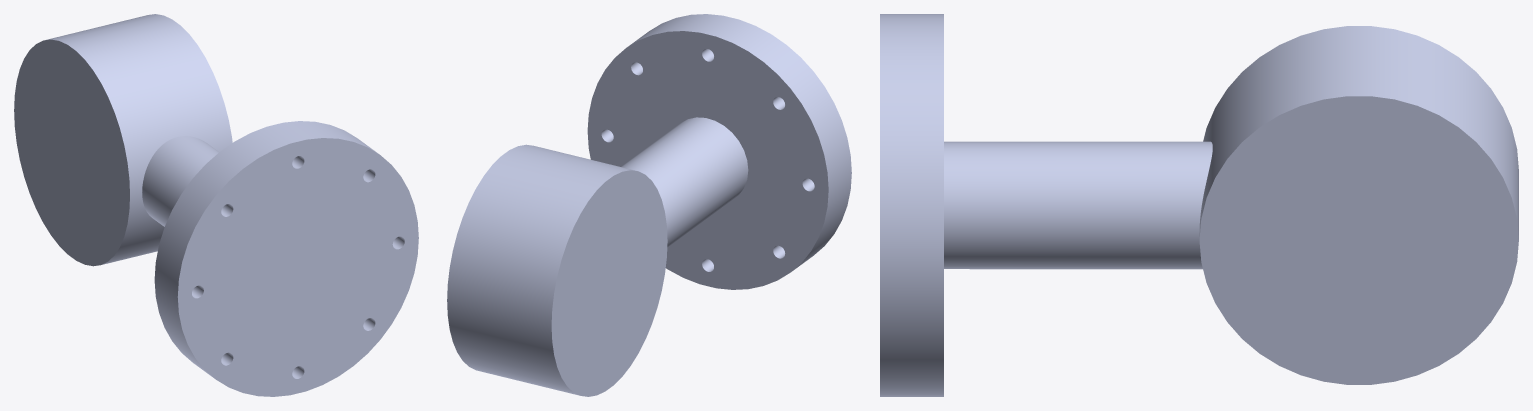
3 renders of one model, left to right at view 1: azimuth 30°, elevation 25°; view 2: azimuth 150°, elevation 25°; view 3: azimuth 270°, elevation 25°, orthographic. The views are drawn at different scales.
Parts seen in each view (by area): view 1: Part9; view 2: Part9; view 3: Part9.
Boxes of the visible parts, left/top/right/bottom form: Part9: left=14, top=14, right=418, bottom=396; Part9: left=447, top=14, right=851, bottom=396; Part9: left=880, top=14, right=1518, bottom=396.
Bounding box in the file's own units: 0.06 × 0.0599 × 0.1.
